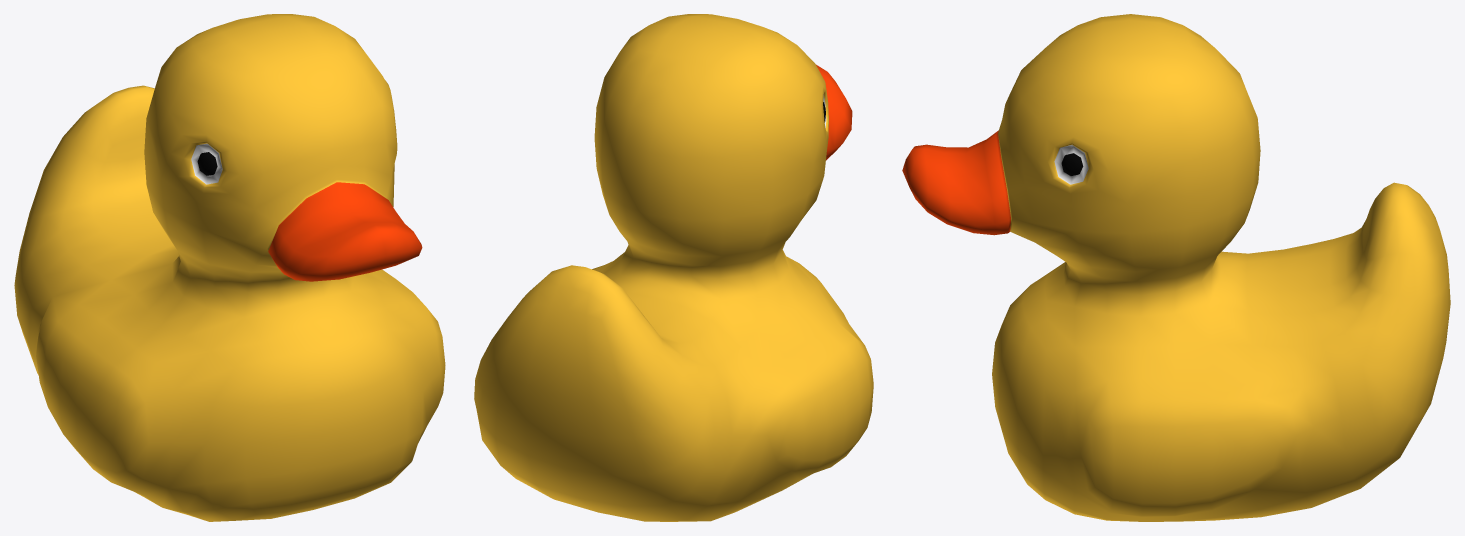
The model's file is Rubber+Duck+3d+Model.gltf.
The picture shows the model from 3 angles, left to right: view 1: azimuth 30°, elevation 25°; view 2: azimuth 150°, elevation 25°; view 3: azimuth 270°, elevation 25°; orthographic projection. The views are drawn at different scales.
Visible parts, largest first — view 1: Rubber Duck; view 2: Rubber Duck; view 3: Rubber Duck.
Part boxes in pixels (left/top/right/bottom): Rubber Duck: left=14, top=14, right=445, bottom=521; Rubber Duck: left=474, top=14, right=873, bottom=521; Rubber Duck: left=902, top=14, right=1450, bottom=521.
Bounding box in the file's own units: 0.2398 × 0.3092 × 0.3428.
